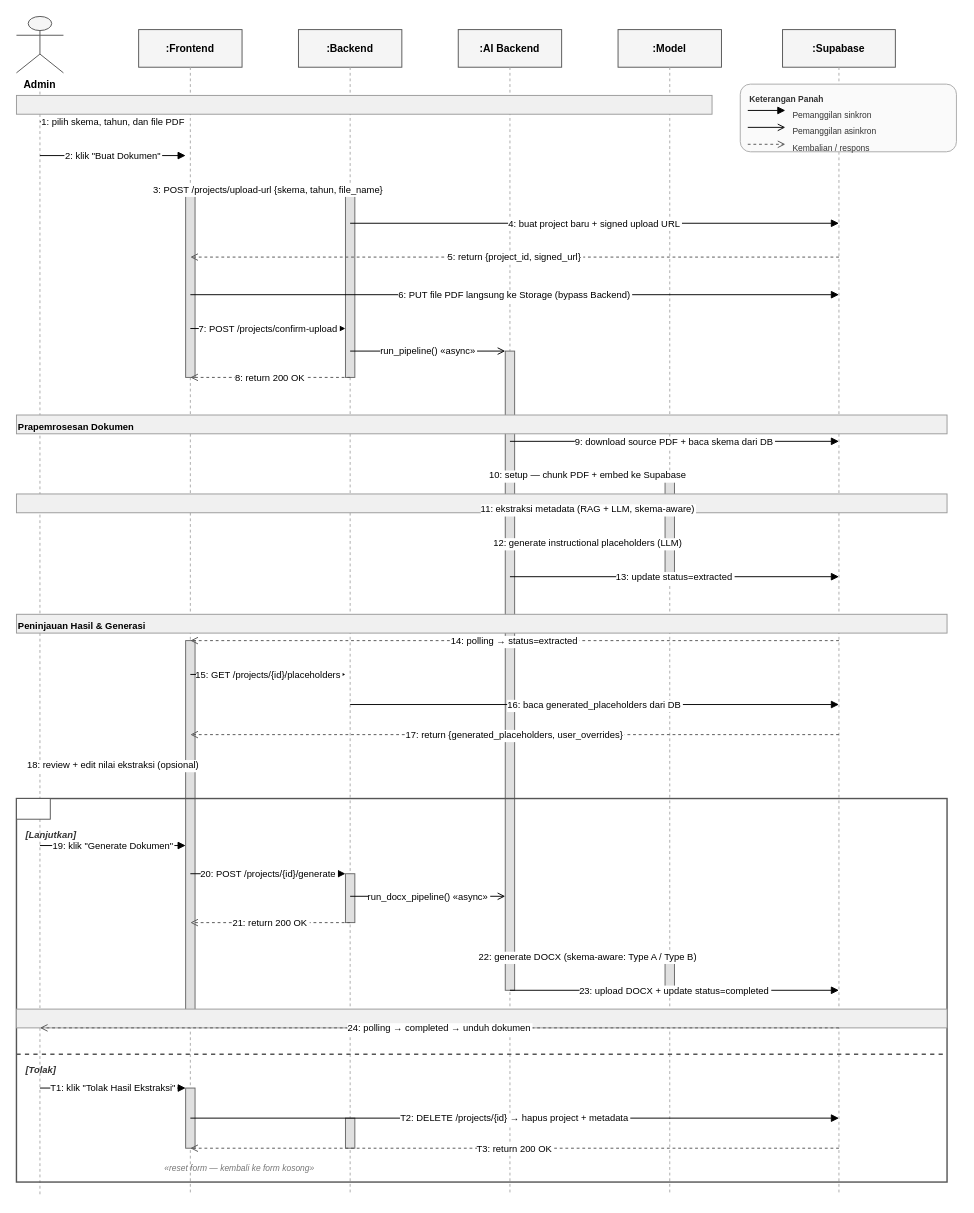
The diagram is 974 pixels wide and 1213 high, and some of its shapes have lost their labels. Here are the shapes that lost their labels. From the top down, the box of each, then its label:
(16, 94, 712, 114): Pengisian Form & Unggah Berkas
(16, 493, 947, 513): Ekstraksi Aturan Berbasis AI (LLM Based Structured Extraction)
(16, 798, 50, 819): alt
(16, 1008, 947, 1028): Unduh Dokumen
